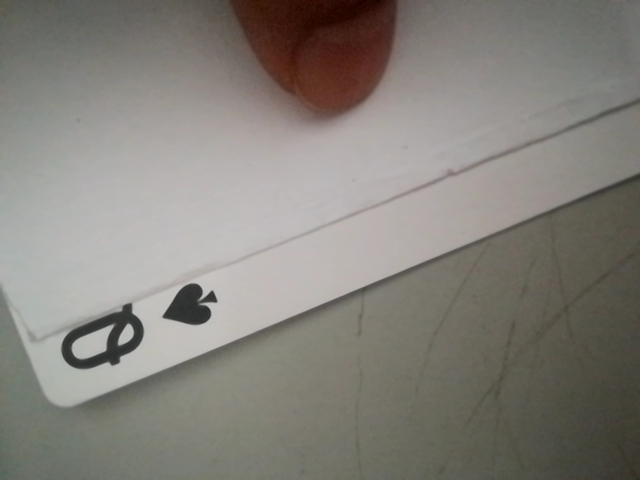ht q: (38, 275, 224, 391)
